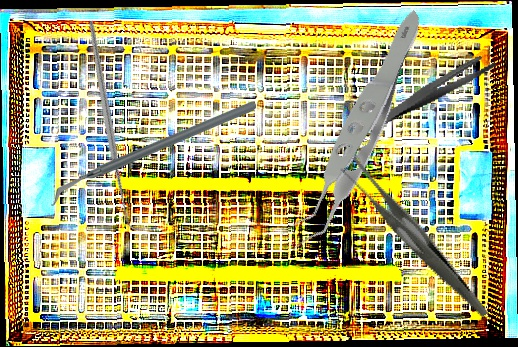Chopper: (51, 100, 256, 206)
Dressing Forceps: (337, 133, 490, 345), (366, 52, 505, 128)
Hook Surgical: (27, 19, 201, 232)
Tissue Forceps: (214, 6, 491, 256)
